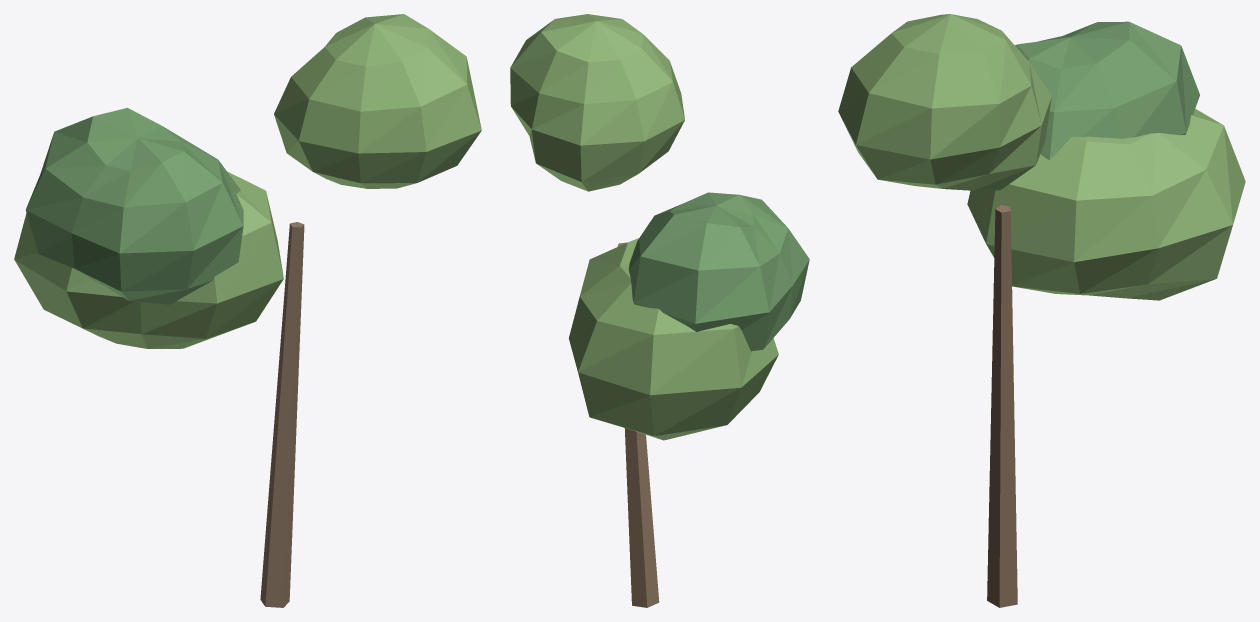
The model's file is tree_sapling.glb.
3 renders of one model, left to right at view 1: azimuth 30°, elevation 25°; view 2: azimuth 150°, elevation 25°; view 3: azimuth 270°, elevation 25°, orthographic. The views are drawn at different scales.
Parts seen in each view (by area): view 1: tree_sapling; view 2: tree_sapling; view 3: tree_sapling.
Boxes of the visible parts, x1,y1,x2,y2 form: tree_sapling: (14, 14, 481, 607); tree_sapling: (510, 14, 809, 607); tree_sapling: (838, 14, 1245, 607).
Size of the model in its own units: 1.61 by 2.49 by 1.47.
